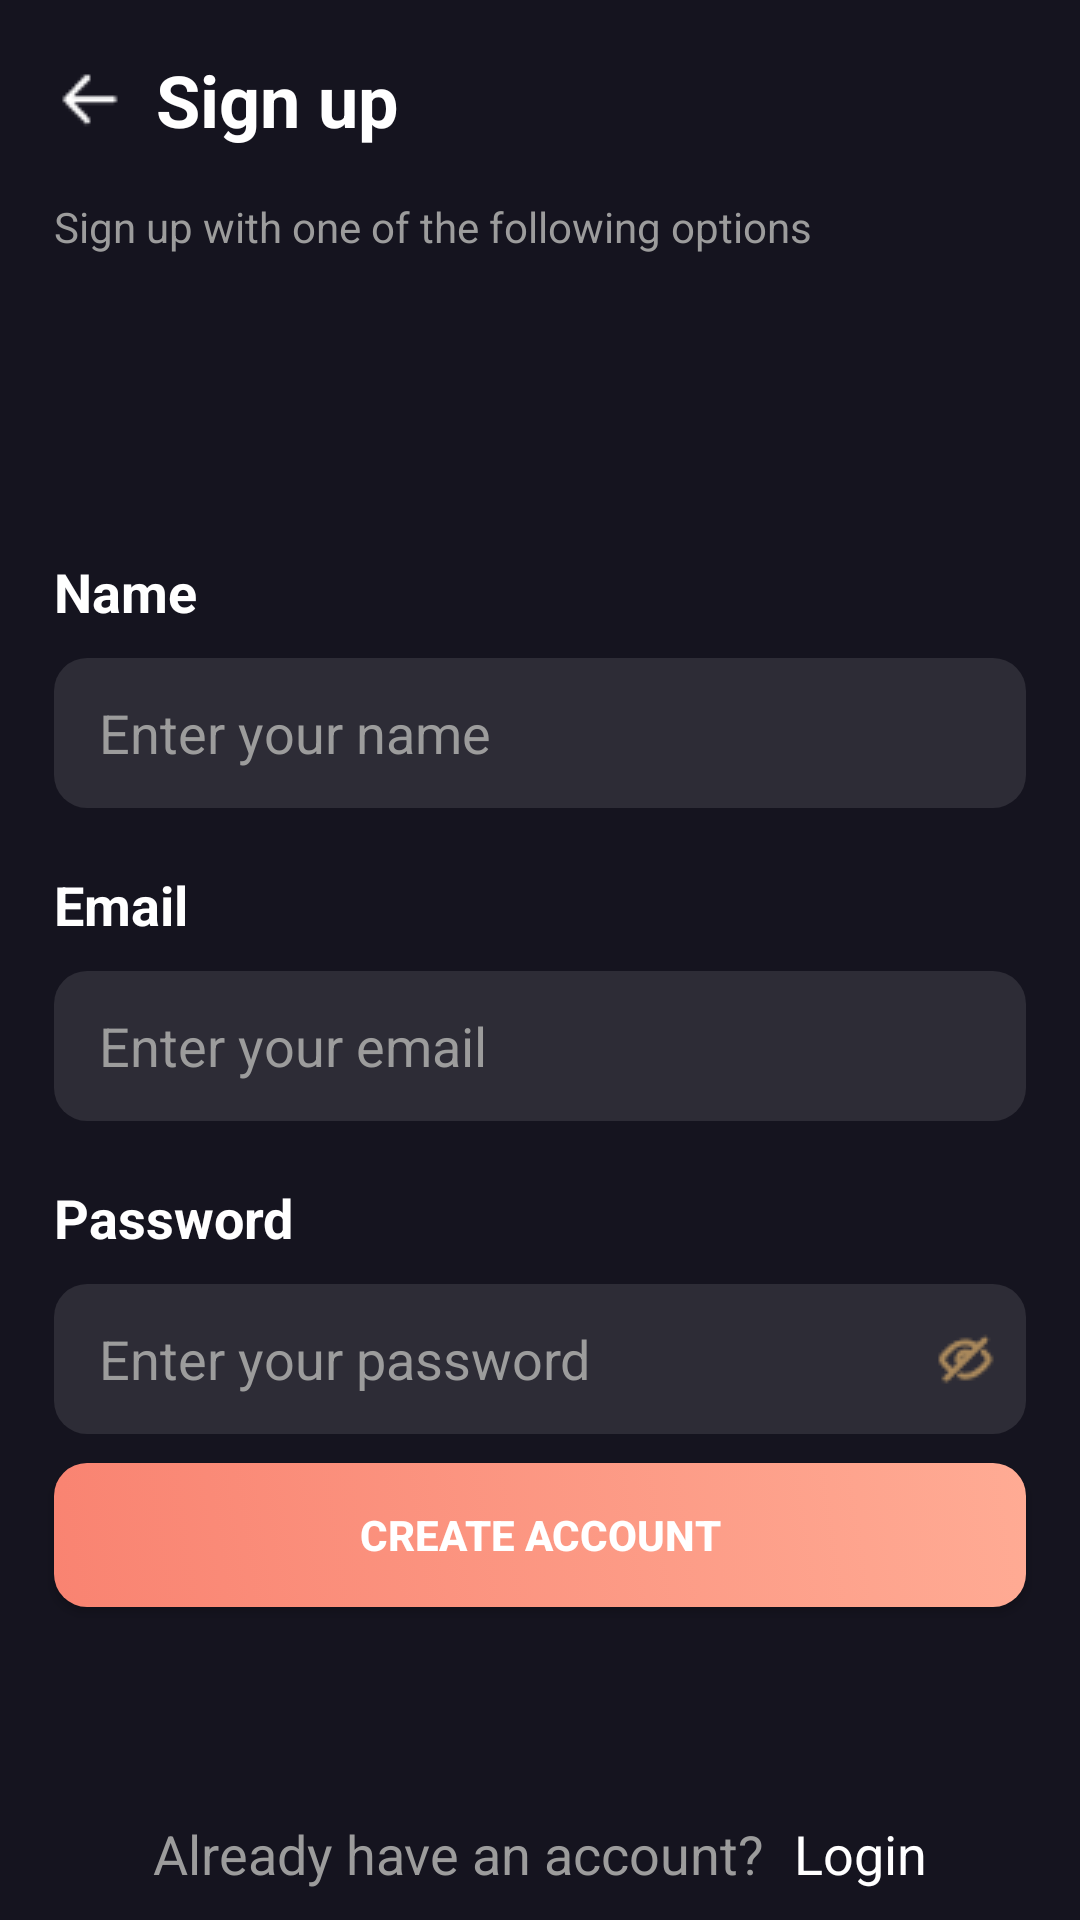

Named icons in this screenshot (1080w x 1920h) and their bounding boxes, (x1, y1, x2, y2):
left arrow: (62, 74, 118, 125)
